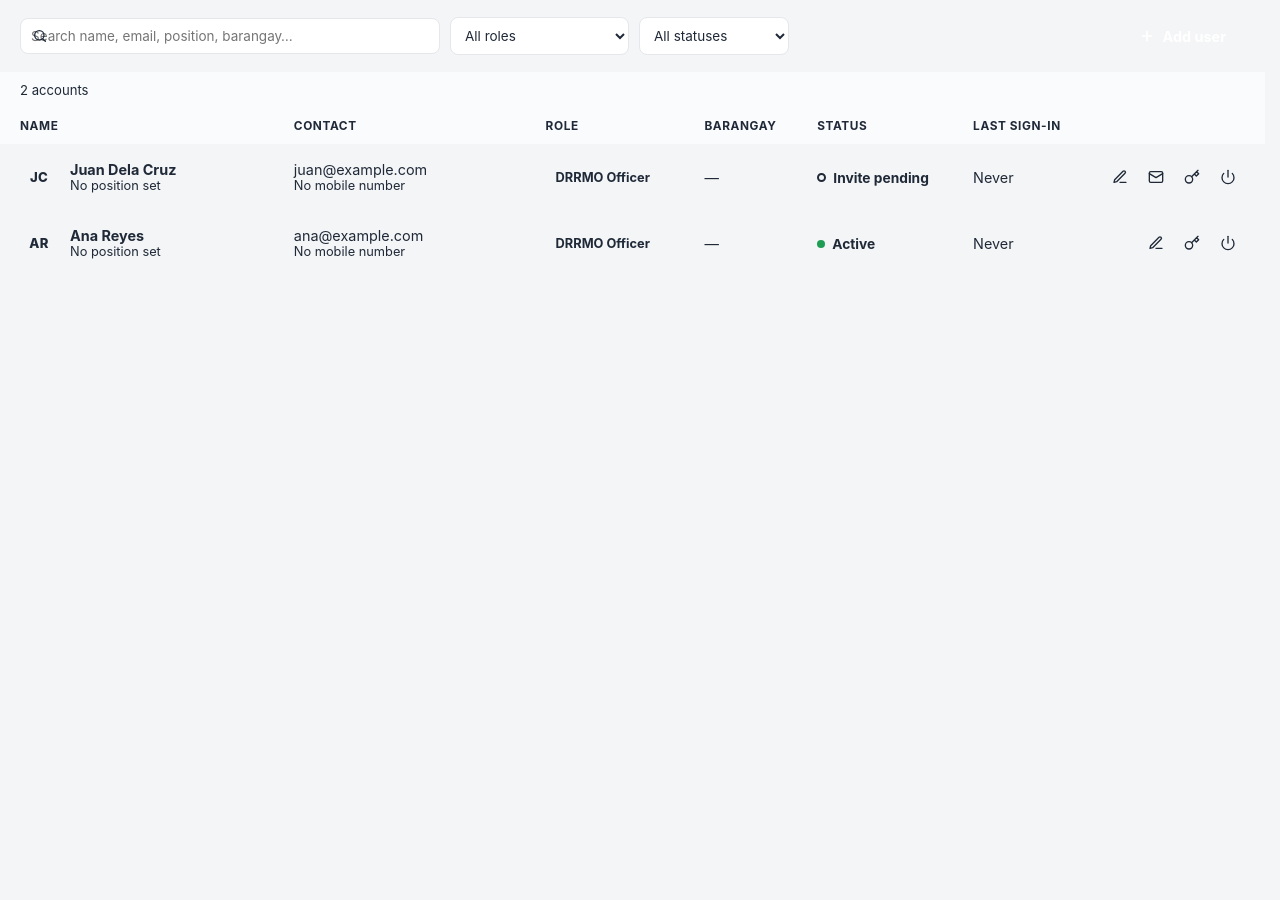
Test: a pending account says so and can be sent a new invite; an active one cannot
This screenshot has width=1280, height=900.
Later steps or results of the test are not shown.
Check: the row that starts with "Juan Dela Cruz" shows "Invite pending", box [833,170,929,186]
Check: the row that starts with "Ana Reyes" shows "Active", box [832,236,875,252]
Step 1. Click the button titled "Resend invite" → (1156, 177), box [1139,160,1173,194]
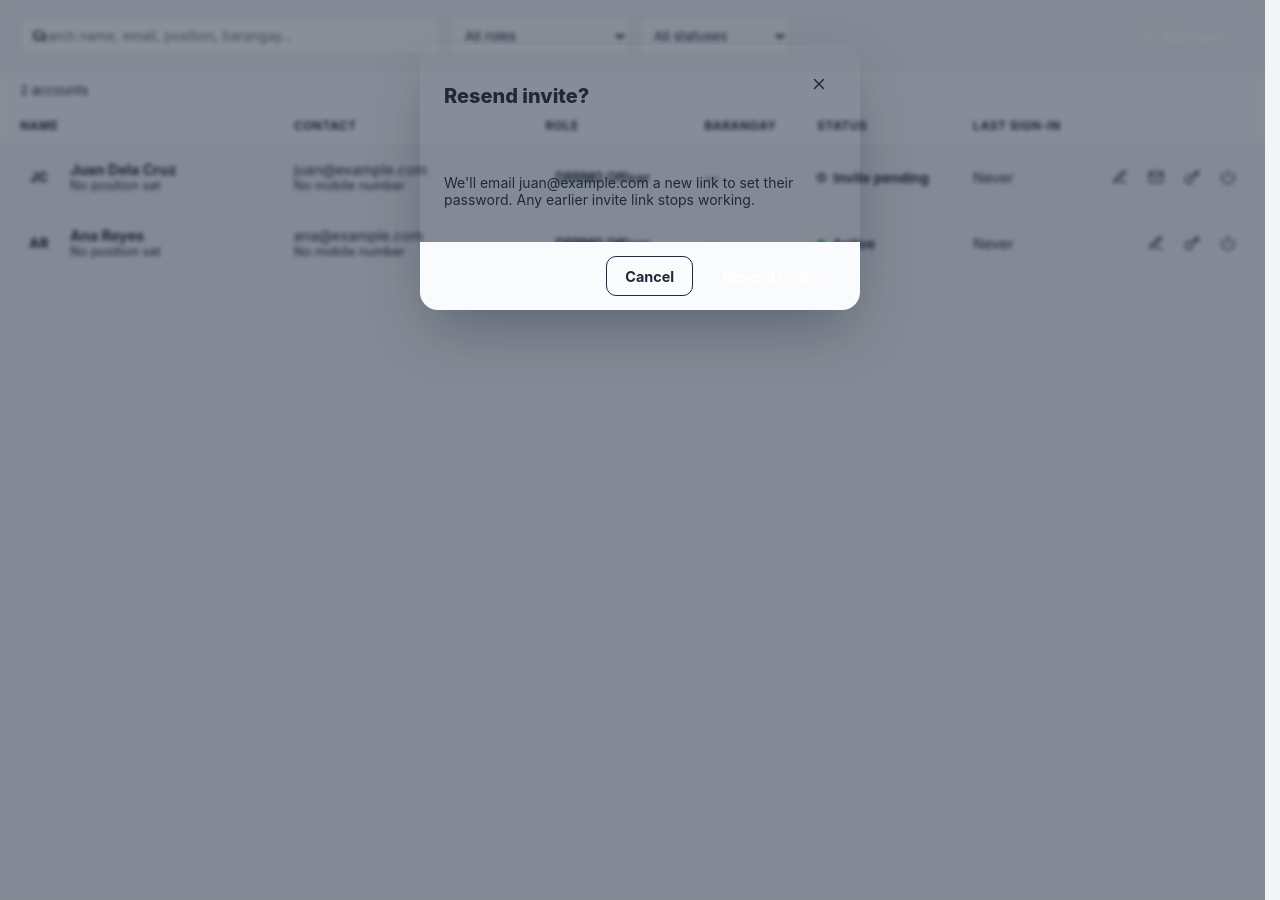
Check: the text "Any earlier invite link stops working." is shown, box [444,174,793,208]
